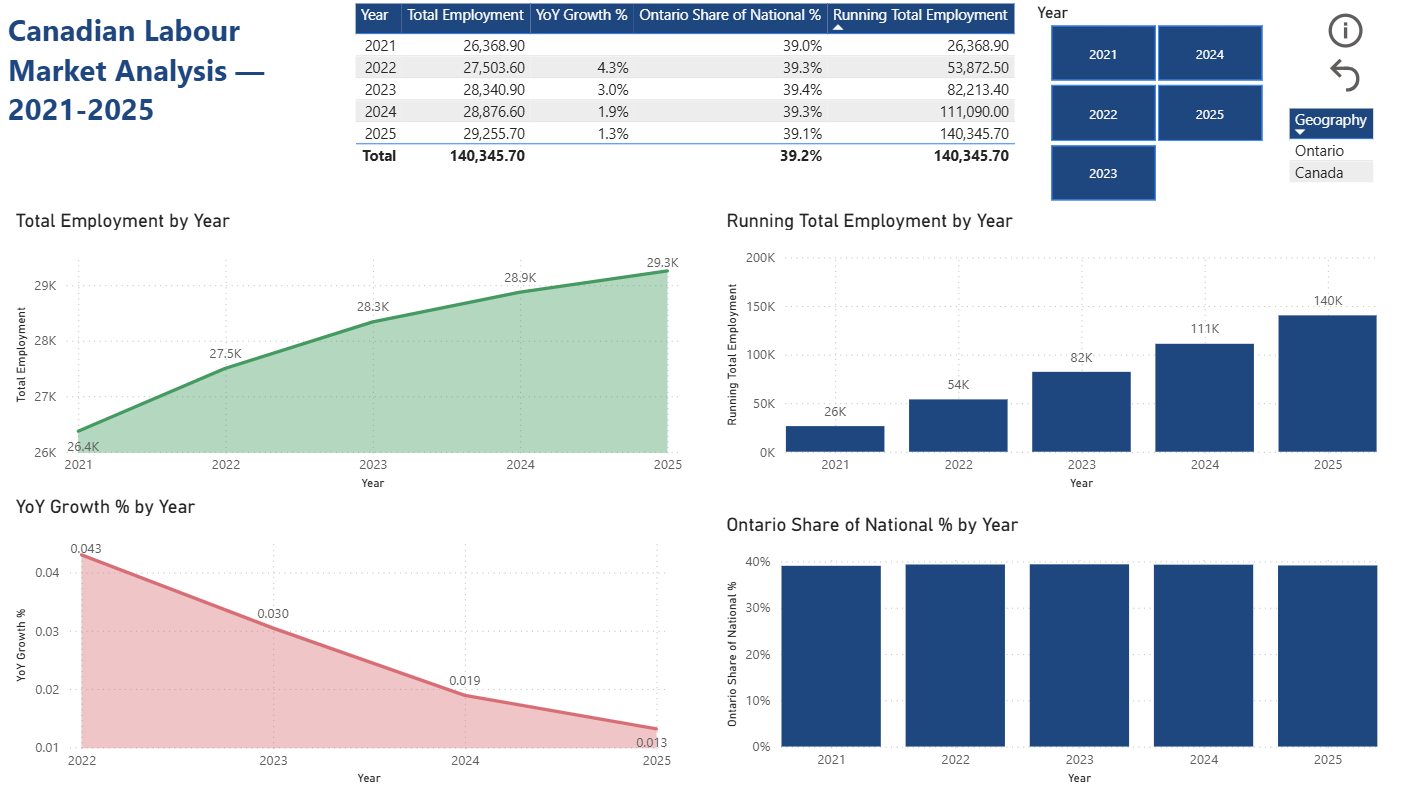

The dashboard page shown, as its layout file describes it:
{"tool":"powerbi","page":{"name":"Results","canvas":[1280,720],"ordinal":0},"visuals":[{"type":"lineChart","fields":{"Category":["YearTable.Year"],"Y":["Canada Labour Force Survey 2021-2025.Total Employment"]},"box":[11.4,191.4,615.7,260],"z":0},{"type":"lineChart","fields":{"Category":["YearTable.Year"],"Y":["Canada Labour Force Survey 2021-2025.YoY Growth %"]},"box":[11.4,451.4,605.7,268.6],"z":1000},{"type":"clusteredColumnChart","fields":{"Y":["Canada Labour Force Survey 2021-2025.Ontario Share of National %"],"Category":["YearTable.Year"]},"box":[658.6,468.6,601.7,251.7],"z":2000},{"type":"clusteredColumnChart","fields":{"Y":["Canada Labour Force Survey 2021-2025.Running Total Employment"],"Category":["YearTable.Year"]},"box":[658.6,191.4,601.4,260],"z":3000},{"type":"tableEx","fields":{"Values":["GeographyTable.Geography"]},"box":[1169.3,95.7,110.7,95.7],"z":4000},{"type":"tableEx","fields":{"Values":["YearTable.Year","Canada Labour Force Survey 2021-2025.Total Employment","Canada Labour Force Survey 2021-2025.YoY Growth %","Canada Labour Force Survey 2021-2025.Ontario Share of National %","Canada Labour Force Survey 2021-2025.Running Total Employment"]},"box":[320,0,625.7,191.4],"z":5000},{"type":"slicer","fields":{"Values":["Canada Labour Force Survey 2021-2025.Year"]},"box":[935.7,0,233.6,191.4],"z":6000},{"type":"actionButton","box":[1205,50,41.7,40],"z":7000},{"type":"actionButton","box":[1205,9,41.1,41.1],"z":8000},{"type":"textbox","box":[0,0,256.7,180],"z":9000}]}

Visuals, with their boxes in screenshot pixels (x1, y1, x2, y2), scaled from the page's 1280x720 canvas onto the 1402x787 screenshot:
lineChart - YearTable.Year x Canada Labour Force Survey 2021-2025.Total Employment: pyautogui.locateOnScreen(12, 209, 687, 493)
lineChart - YearTable.Year x Canada Labour Force Survey 2021-2025.YoY Growth %: pyautogui.locateOnScreen(12, 493, 676, 786)
clusteredColumnChart - Canada Labour Force Survey 2021-2025.Ontario Share of National % x YearTable.Year: pyautogui.locateOnScreen(721, 512, 1380, 786)
clusteredColumnChart - Canada Labour Force Survey 2021-2025.Running Total Employment x YearTable.Year: pyautogui.locateOnScreen(721, 209, 1380, 493)
tableEx - GeographyTable.Geography: pyautogui.locateOnScreen(1281, 105, 1401, 209)
tableEx - YearTable.Year x Canada Labour Force Survey 2021-2025.Total Employment: pyautogui.locateOnScreen(350, 0, 1036, 209)
slicer - Canada Labour Force Survey 2021-2025.Year: pyautogui.locateOnScreen(1025, 0, 1281, 209)
actionButton: pyautogui.locateOnScreen(1320, 55, 1366, 98)
actionButton: pyautogui.locateOnScreen(1320, 10, 1365, 55)
textbox: pyautogui.locateOnScreen(0, 0, 281, 197)
